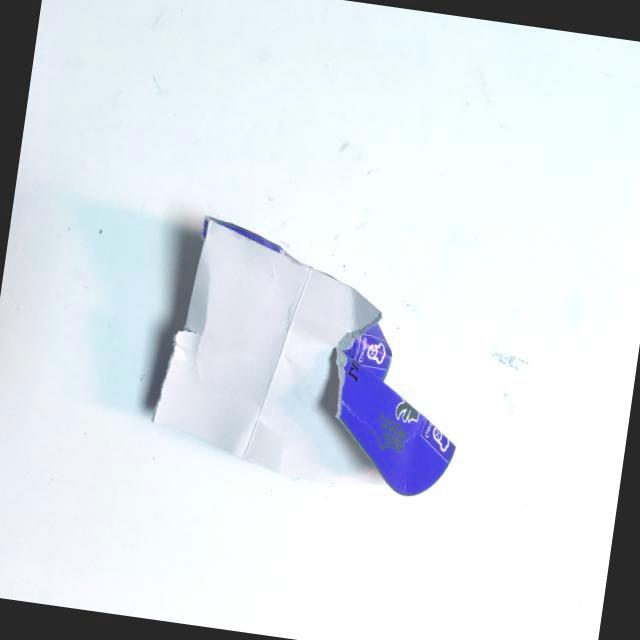paper: (125, 196, 566, 556)
